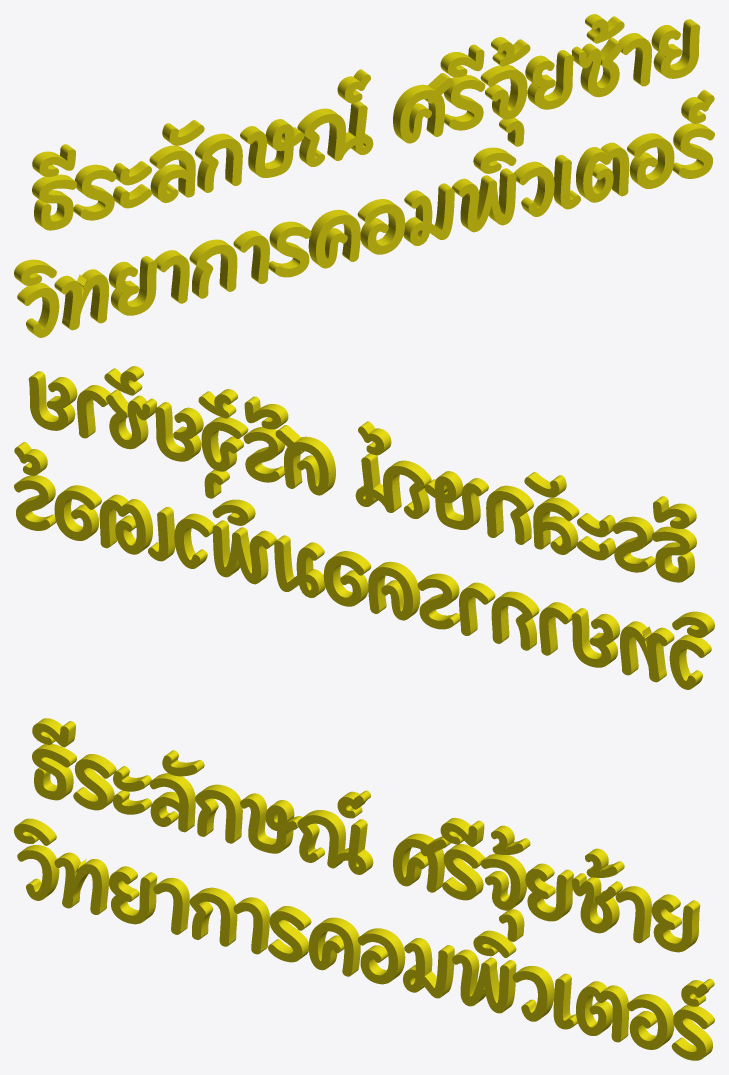
The picture shows the model from 3 angles, top to bottom: view 1: azimuth 30°, elevation 25°; view 2: azimuth 150°, elevation 25°; view 3: azimuth 330°, elevation 25°; orthographic projection.
Parts seen in each view (by area): view 1: Text; view 2: Text; view 3: Text.
Boxes of the visible parts, <box> form: Text: <box>14,14,714,337</box>; Text: <box>14,366,714,689</box>; Text: <box>14,718,714,1060</box>.
Bounding box in the file's own units: 1.52 × 0.3854 × 0.0274.
